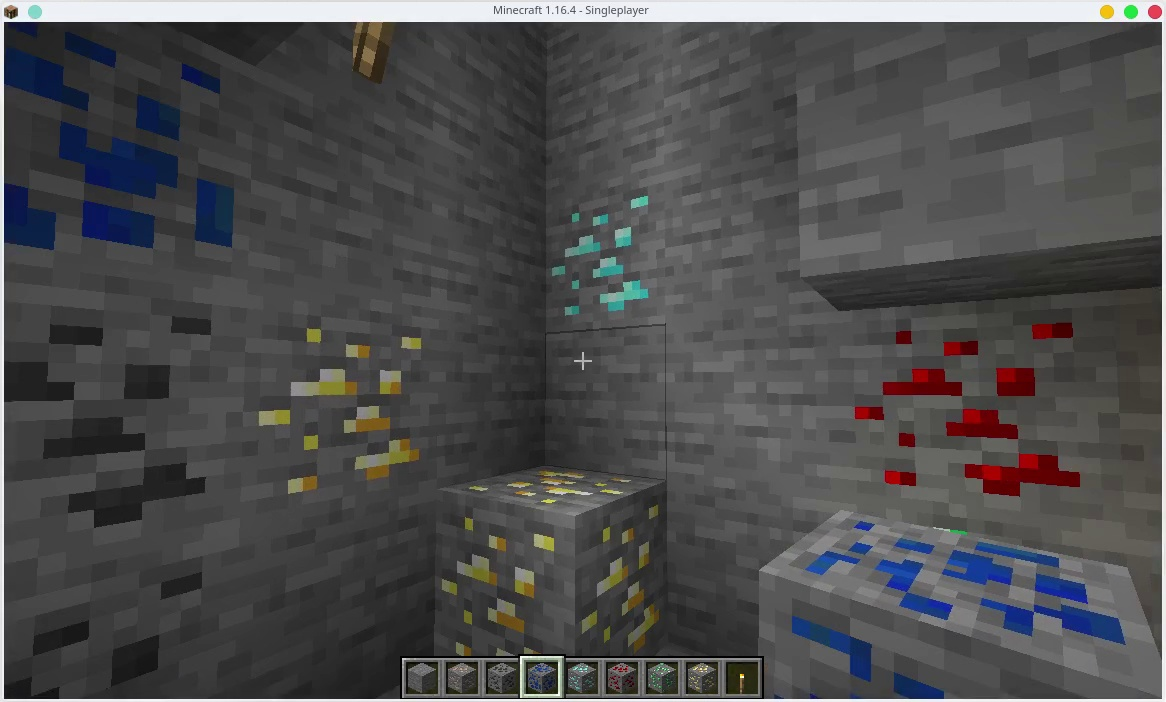gold: (435, 464, 660, 653), (249, 314, 420, 495), (685, 664, 716, 695)
